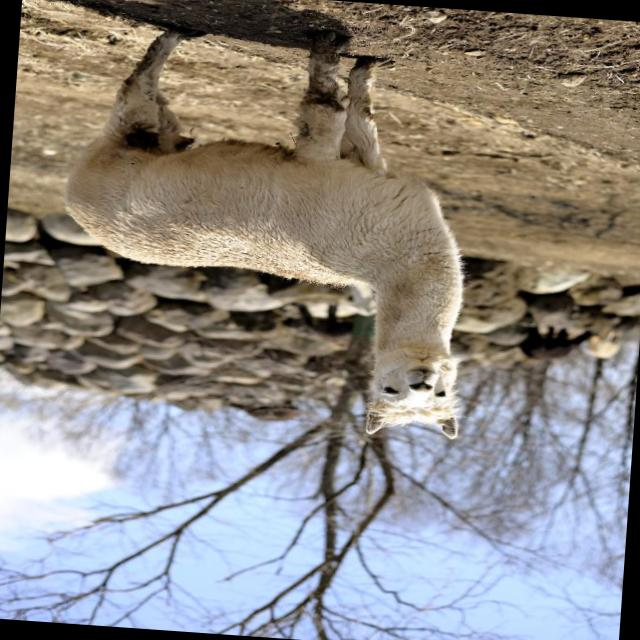alpaca: (49, 17, 488, 439)
